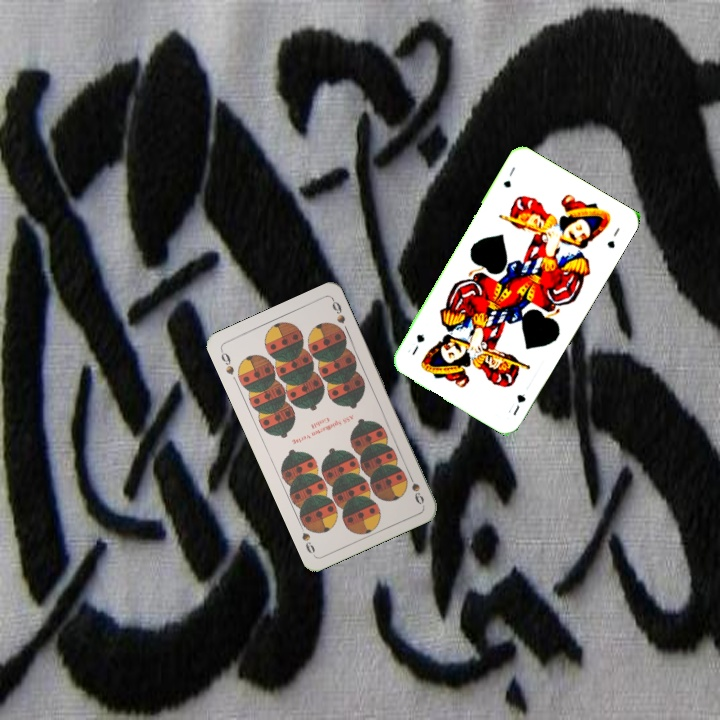GU: (504, 390, 528, 418), (499, 163, 518, 190)
S9: (404, 468, 427, 507), (217, 346, 237, 377)
